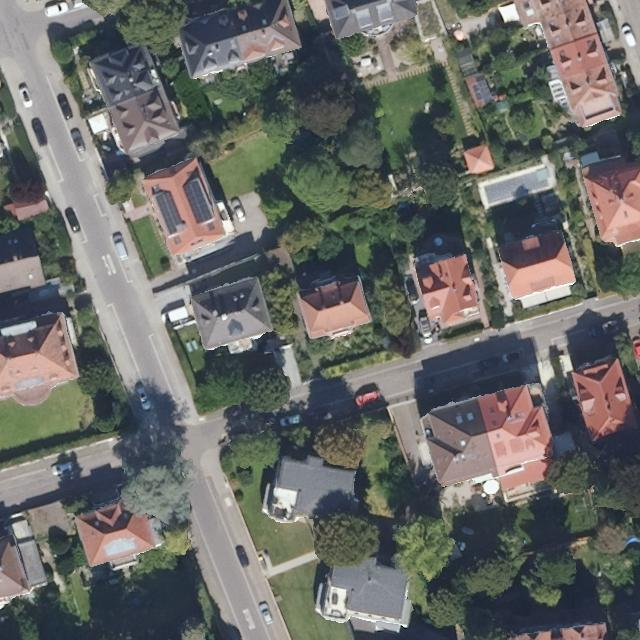PV: (182, 180, 214, 226), (154, 191, 183, 236), (471, 74, 495, 105)
